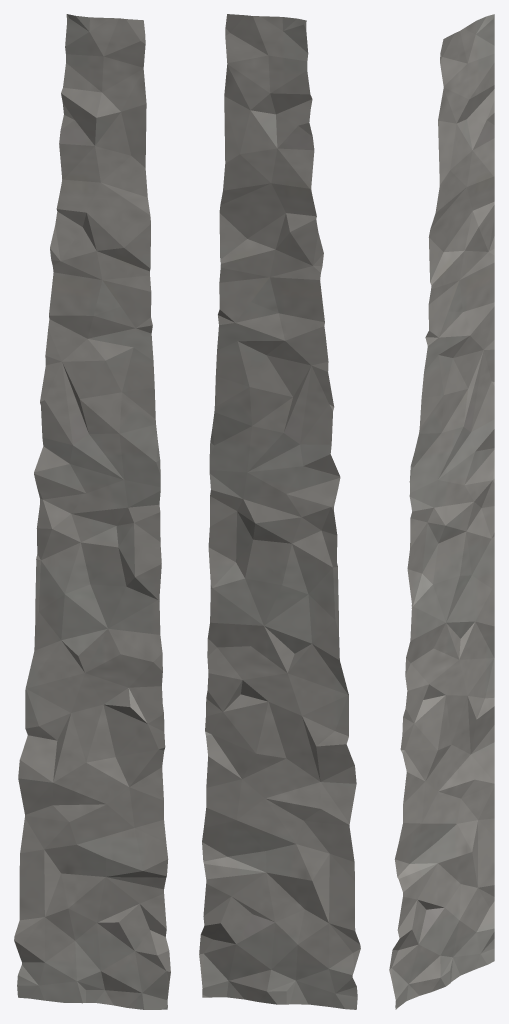
The picture shows the model from 3 angles, left to right: view 1: azimuth 30°, elevation 25°; view 2: azimuth 210°, elevation 25°; view 3: azimuth 270°, elevation 25°; orthographic projection. The views are drawn at different scales.
Bounding box in the file's own units: 0.0939 × 0.8374 × 0.0824.
1 material, 1 textured.
